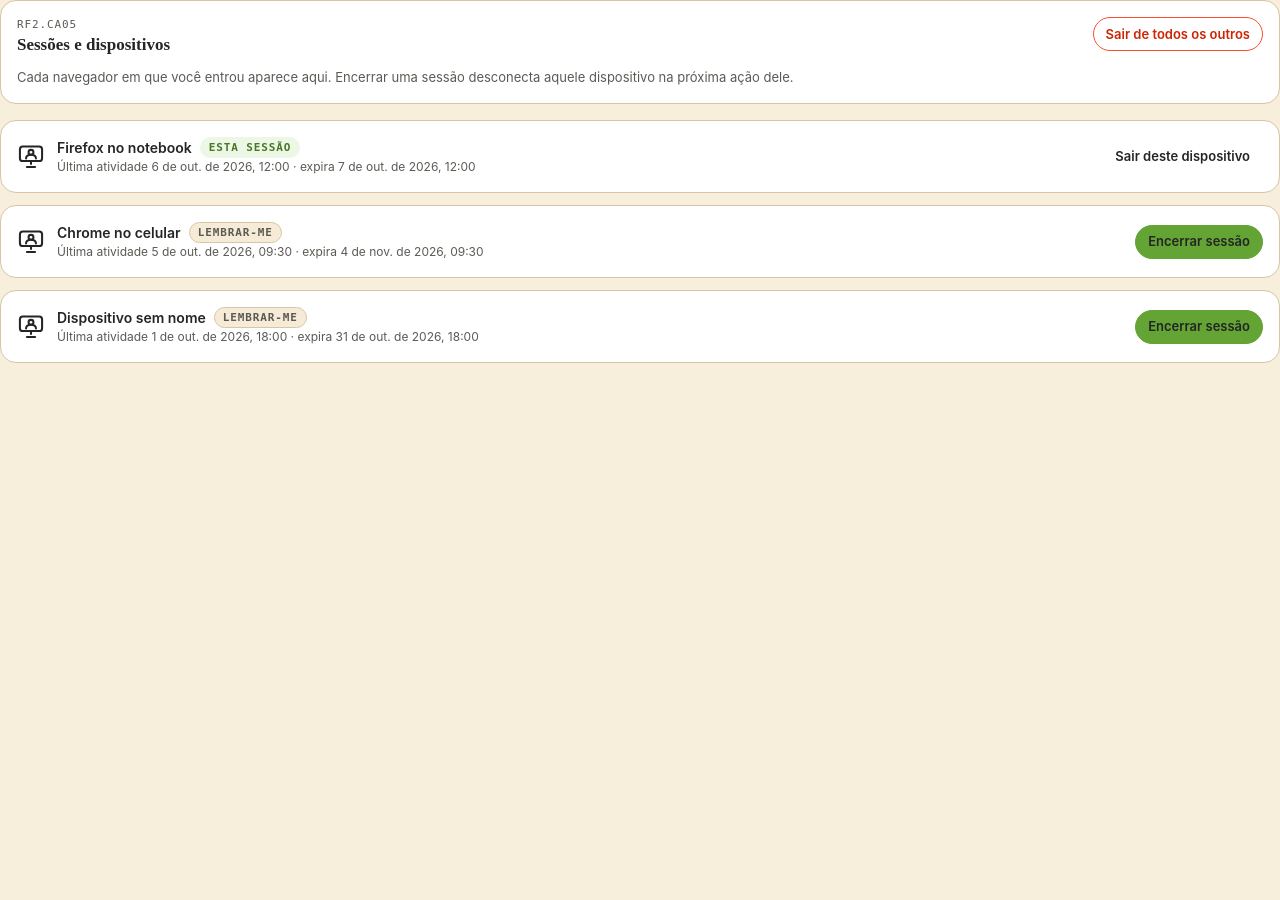
Test: Configurações › Sessões › lista as sessões com a atual marcada e encerra outra só depois de confirmar
Expected: the number of list items with test id "session-item" is 3, [0,120,1279,193]; [0,205,1279,278]; [0,290,1279,363]
Expected: the text "Esta sessão" is shown, [200,137,300,158]
Click the button with test id "session-revoke": coordinates (1199, 242) [1135,225,1263,259]
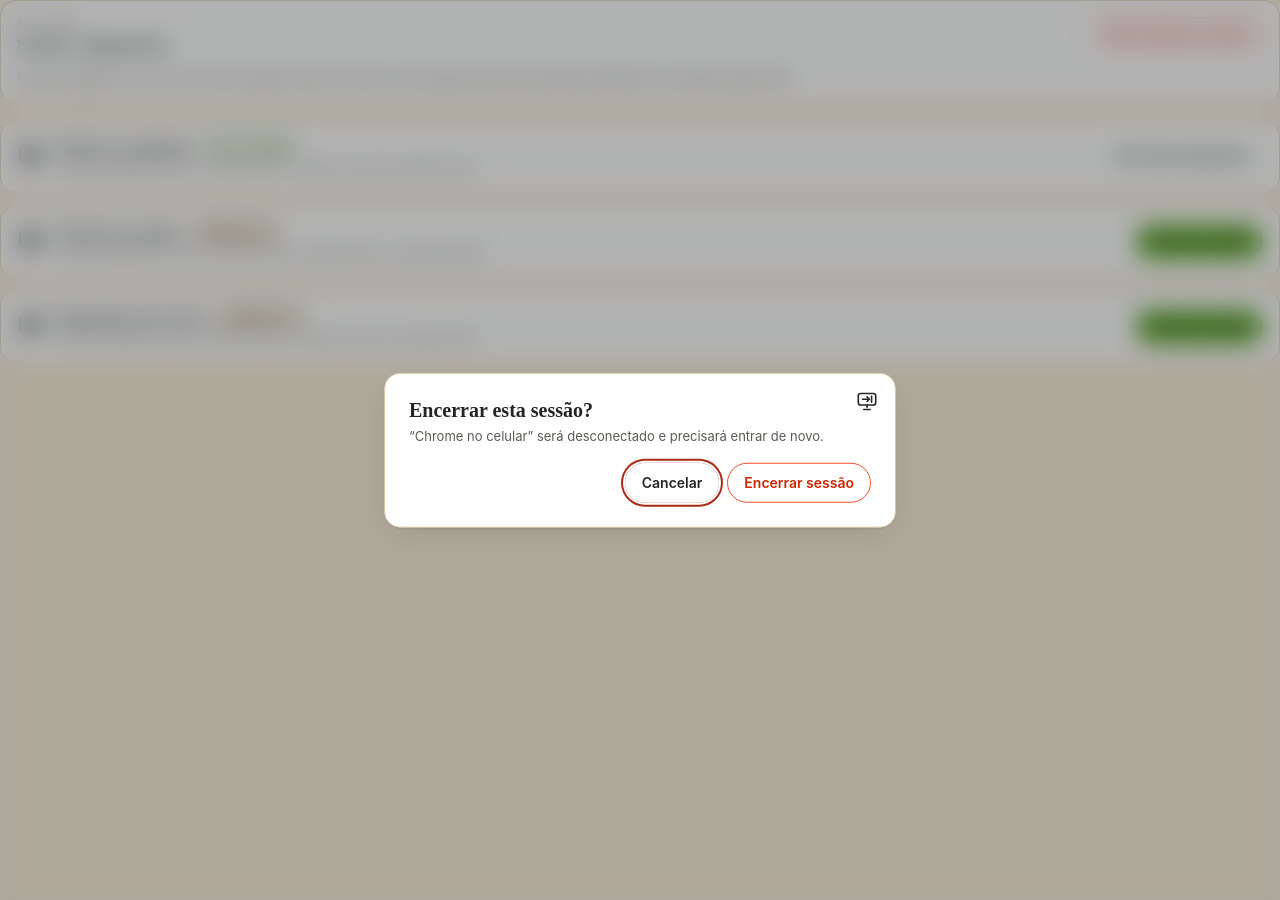
Expected: the text "Chrome no celular" is shown, [409,428,824,444]
Click the button with test id "session-confirm": coordinates (799, 482) [727,462,871,502]
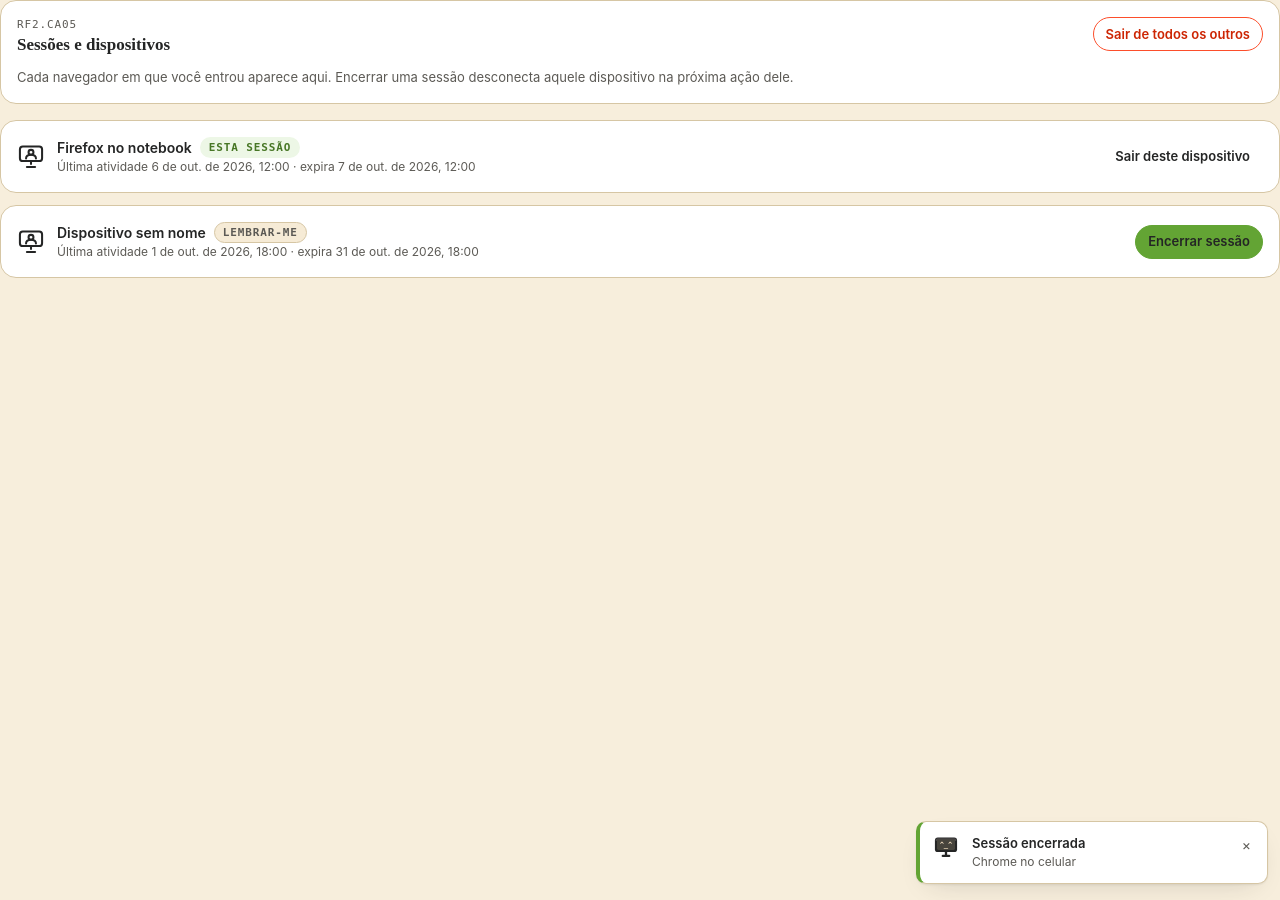
Expected: the number of list items with test id "session-item" is 2, [0,120,1279,193]; [0,205,1279,278]
